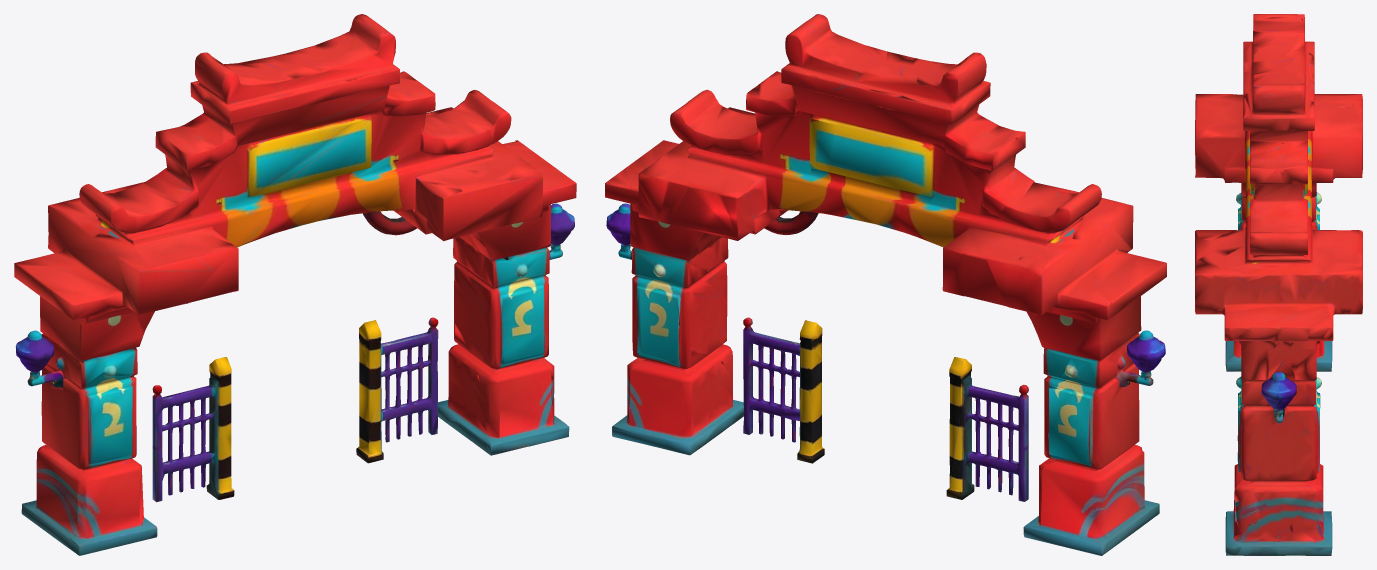
File: base-gate.glb
3 views of the same model, side by side, from view 1: azimuth 30°, elevation 25°; view 2: azimuth 150°, elevation 25°; view 3: azimuth 270°, elevation 25° (orthographic). The views are drawn at different scales.
Size of the model in its own units: 1.91 by 1.43 by 0.5469.
Materials: 1 (1 with a texture image).
